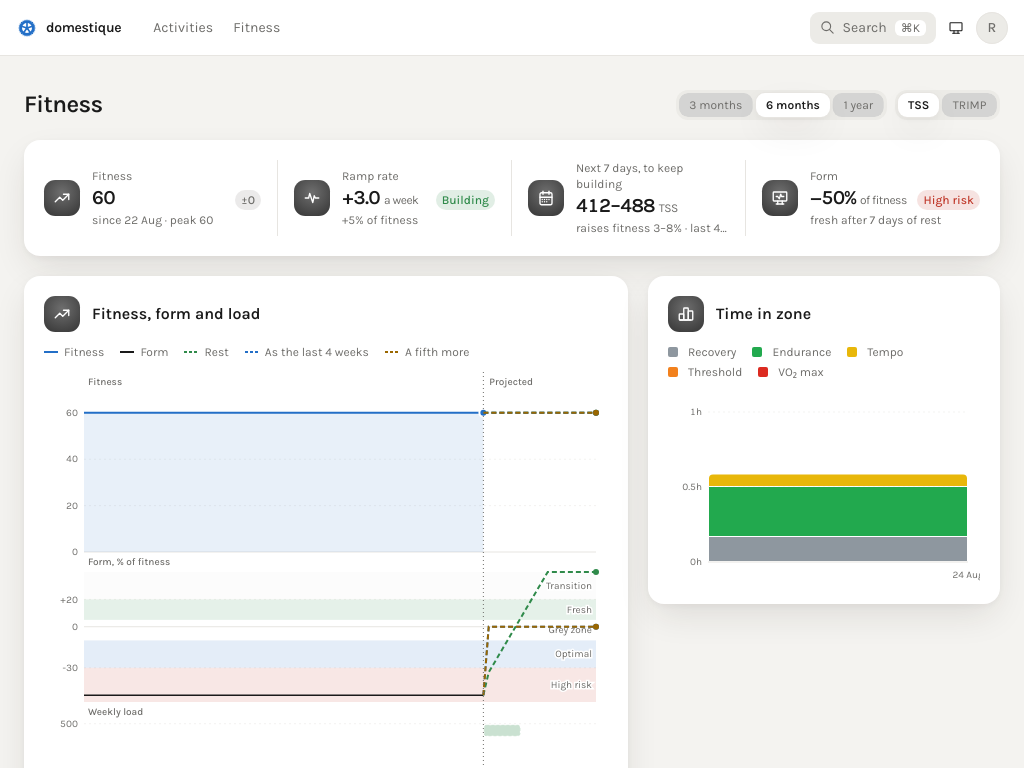
Test case: FitnessPage › reads the outlook on the scale the page is on
Check: the element "Next 7 days, to keep building" shows "412–488", box top-left (576, 194), bottom-right (655, 217)
Check: the element "Ramp rate" shows "+3.0", box top-left (342, 186), bottom-right (380, 209)
Click the button "TRIMP" at [970, 105], box top-left (942, 93), bottom-right (997, 117)
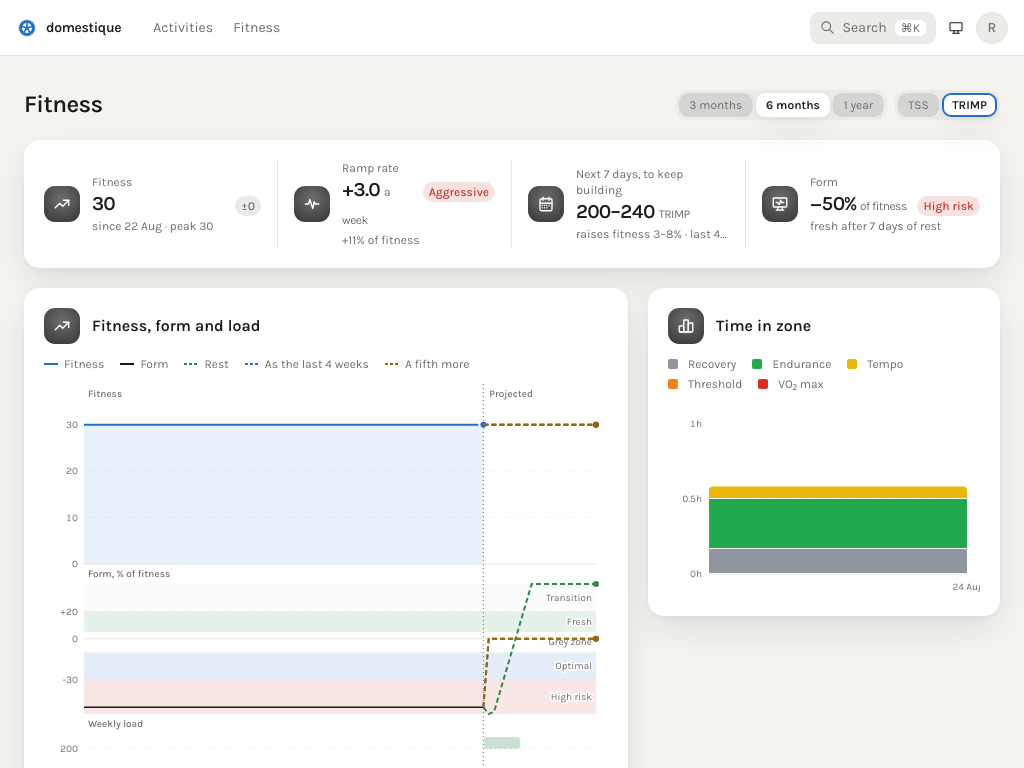
Check: the text "200–240" is shown, box top-left (576, 200), bottom-right (655, 223)
